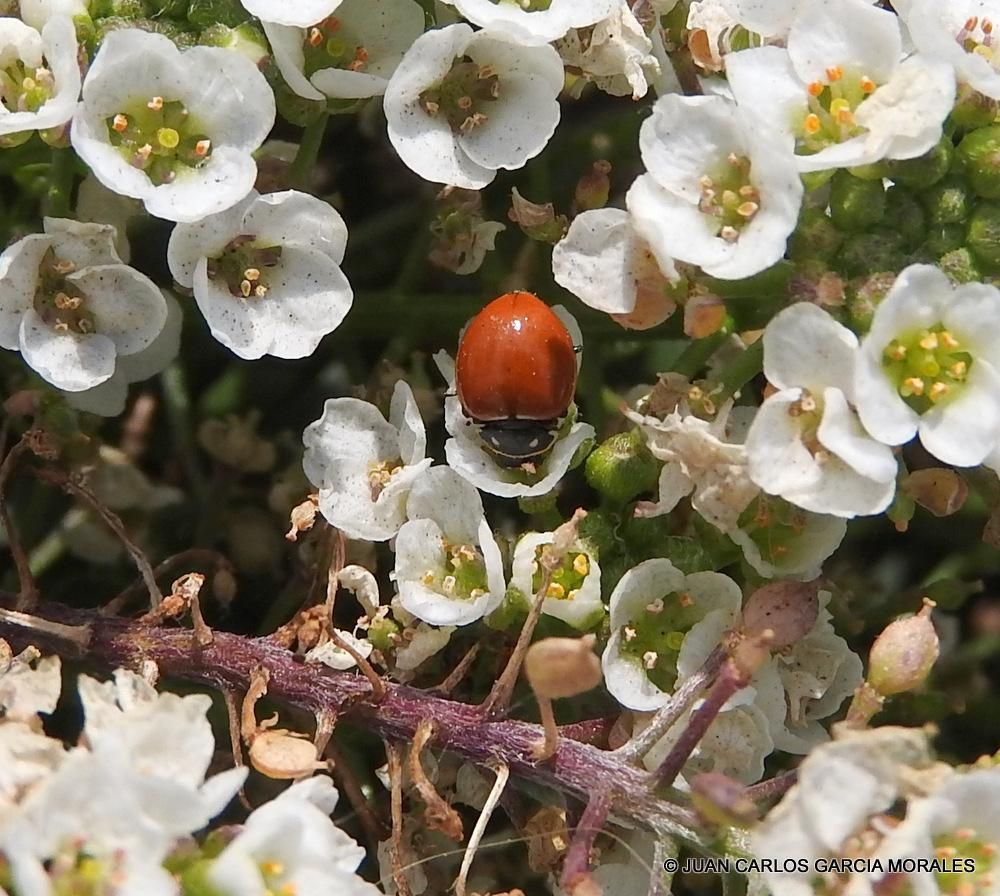ladybug: (439, 286, 591, 484)
